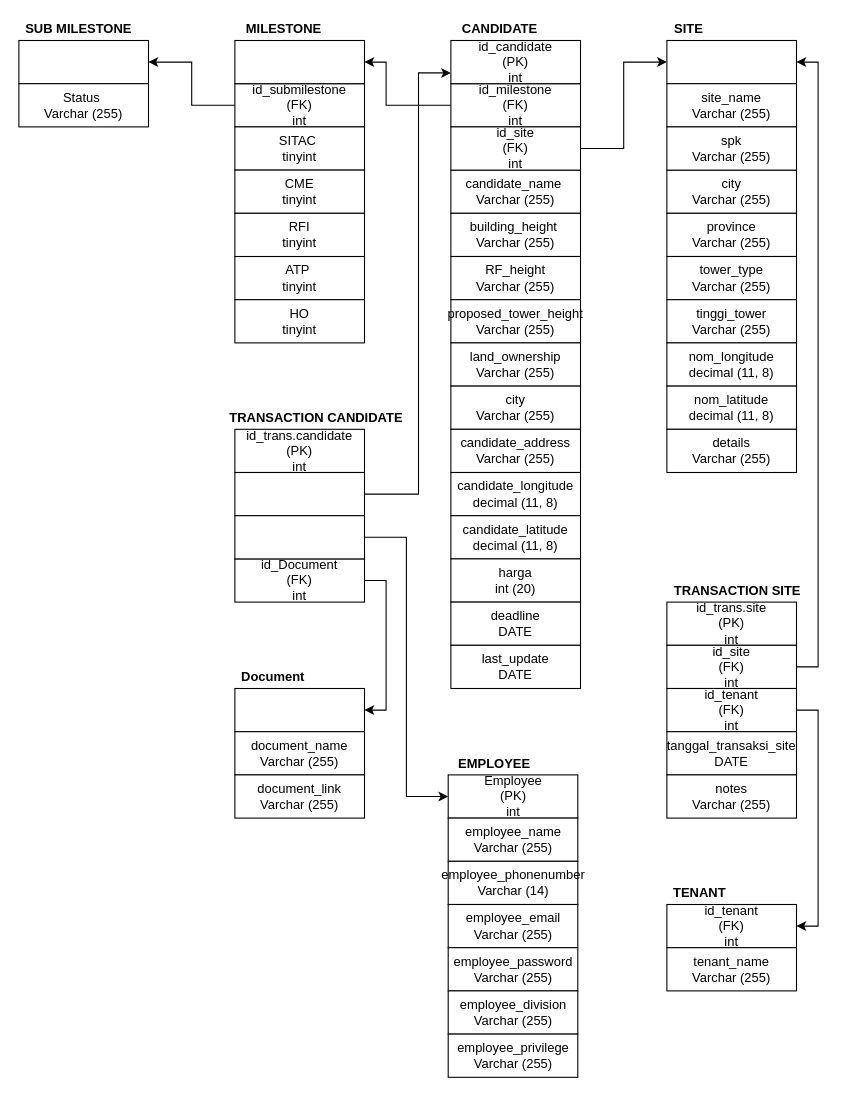
This 846x1096 diagram has some shape labels left out. Here are the shapes that lost their labels. From the top down, the centre of each, then its label:
At (x=83, y=61): "id_submilestone (PK) int".
At (x=299, y=61): "id_milestone (PK) int".
At (x=731, y=61): "id_site (PK) int".
At (x=299, y=493): "id_candidate (FK) int".
At (x=299, y=537): "id_employee (FK) int".
At (x=299, y=709): "id_document (PK) int".
